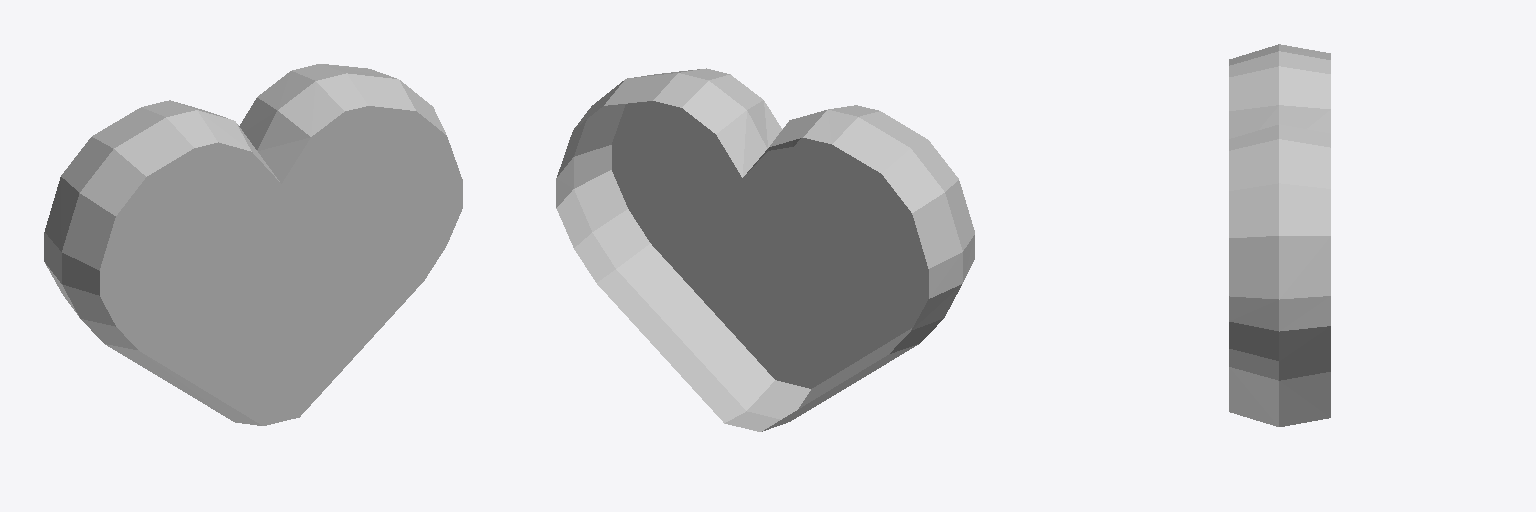
The model's file is house_heart.obj.
3 renders of one model, left to right at view 1: azimuth 30°, elevation 25°; view 2: azimuth 150°, elevation 25°; view 3: azimuth 270°, elevation 25°, orthographic.
Parts seen in each view (by area): view 1: house_heart; view 2: house_heart; view 3: house_heart.
Boxes of the visible parts, x1,y1,x2,y2 form: house_heart: [44, 64, 462, 425]; house_heart: [556, 68, 974, 431]; house_heart: [1229, 44, 1330, 426].
Size of the model in its own units: 0.7644 by 0.6038 by 0.1735.